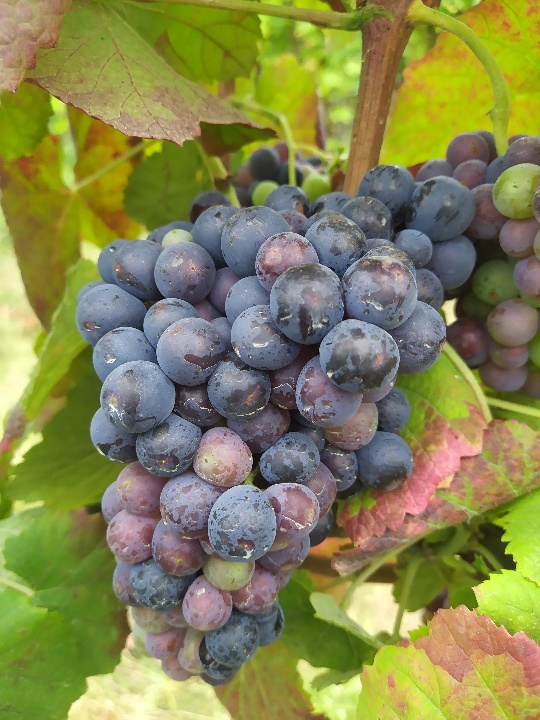grape: (75, 166, 480, 687)
